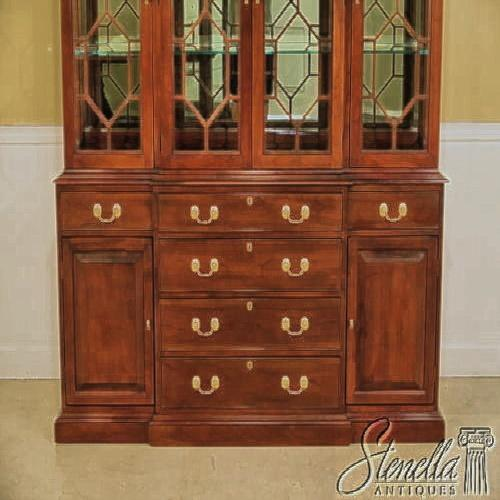cabinet: (57, 12, 442, 445)
